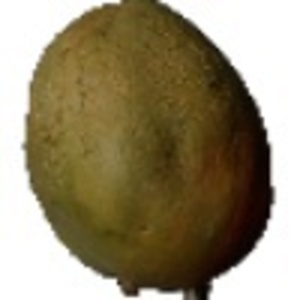mamão: (20, 4, 285, 293)
